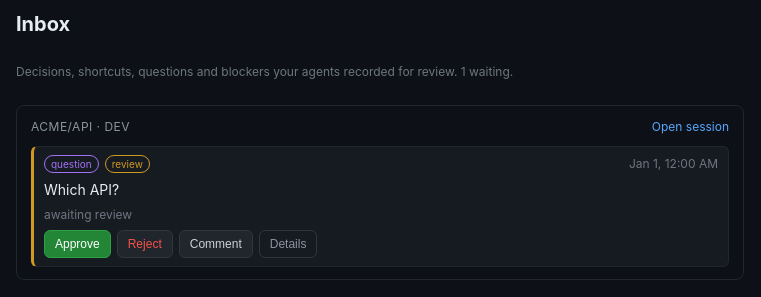
Test: Inbox › reviews from the inbox and reloads
Click the button "Approve". click: (77, 244)
box: [44,230,111,258]
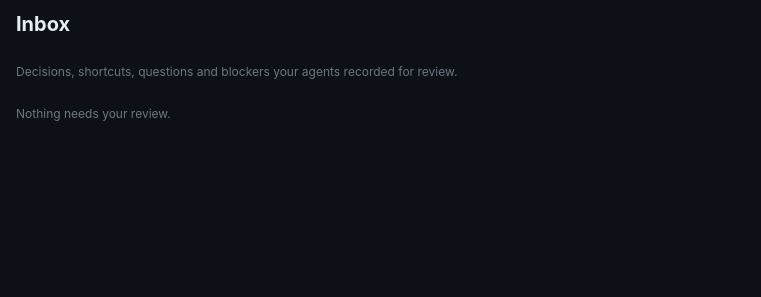
Result: the text "Nothing needs your review." is shown at [16,106,171,121]
